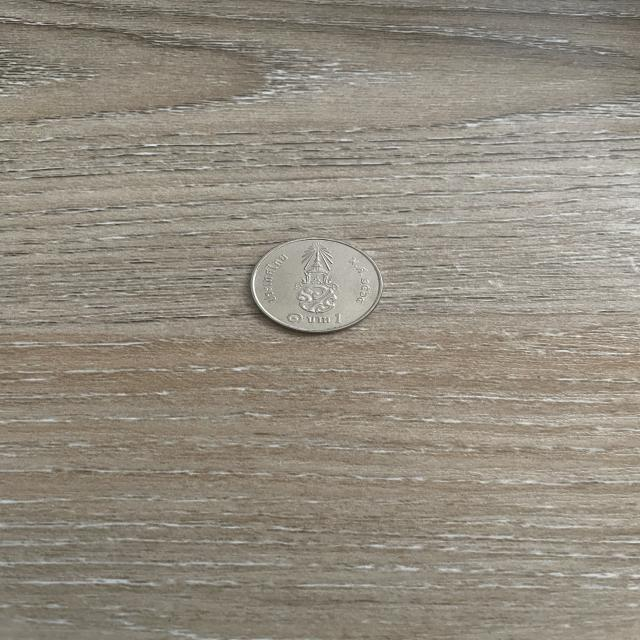1 Bath: (243, 232, 392, 341)
